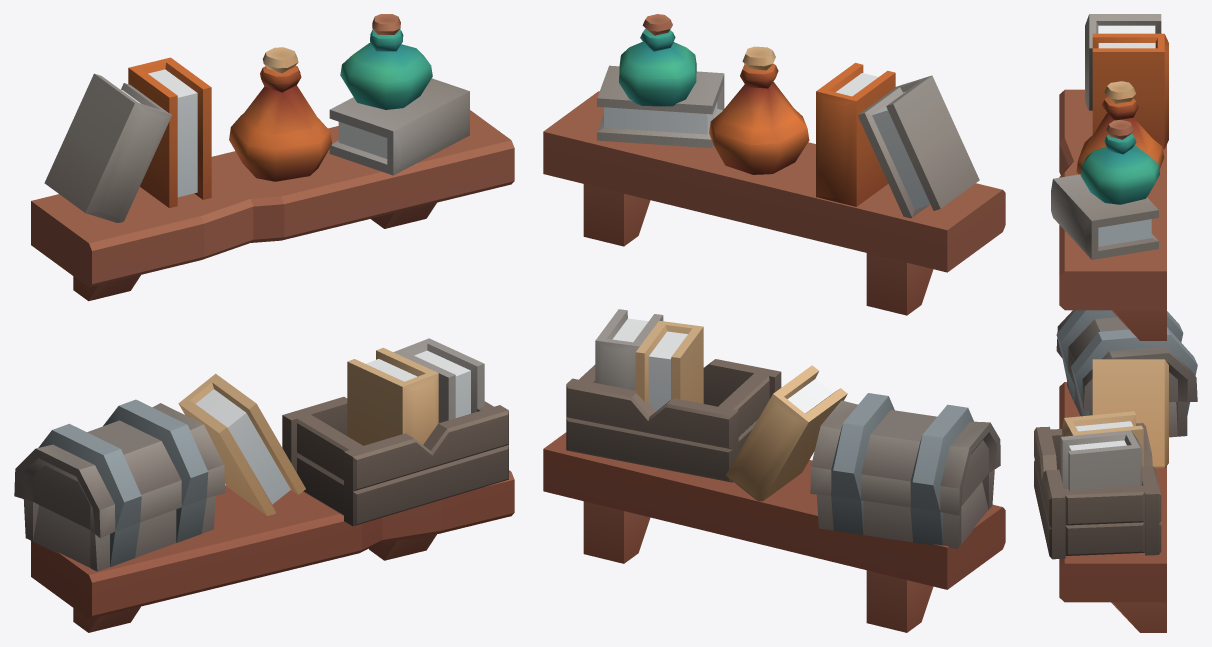
Rendered from shelves_decorated.glb.
3 views of the same model, side by side, from view 1: azimuth 30°, elevation 25°; view 2: azimuth 150°, elevation 25°; view 3: azimuth 270°, elevation 25° (orthographic). The views are drawn at different scales.
Parts seen in each view (by area): view 1: shelves_decorated; view 2: shelves_decorated; view 3: shelves_decorated.
Boxes of the visible parts, bbox=[...] form: shelves_decorated: bbox=[14, 14, 514, 632]; shelves_decorated: bbox=[543, 14, 1005, 632]; shelves_decorated: bbox=[1034, 14, 1197, 632].
Size of the model in its own units: 2.07 by 2.5 by 0.7618.
Materials: 1 (1 with a texture image).
